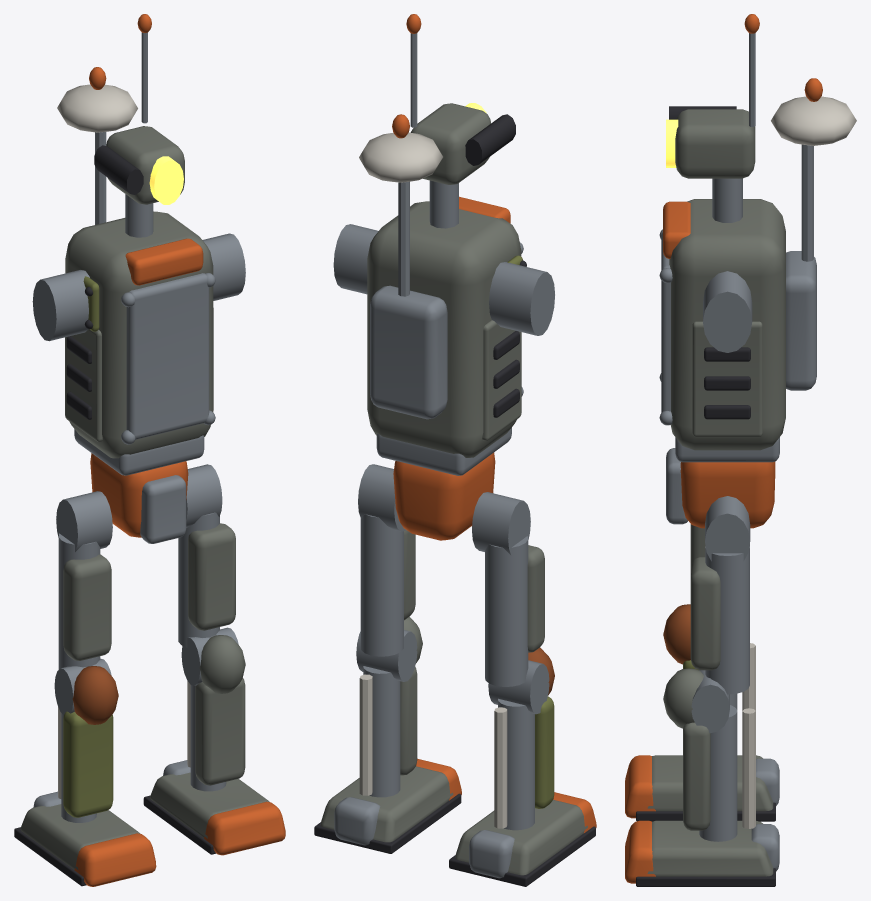
File: ch_strider.glb
3 renders of one model, left to right at view 1: azimuth 30°, elevation 25°; view 2: azimuth 150°, elevation 25°; view 3: azimuth 270°, elevation 25°, orthographic. The views are drawn at different scales.
Visible parts, largest first — view 1: ch_strider, limb_leg_l, limb_leg_r; view 2: ch_strider, limb_leg_l, limb_leg_r; view 3: ch_strider, limb_leg_r, limb_leg_l.
Boxes of the visible parts, x1,y1,x2,y2 form: ch_strider: (32, 14, 245, 543); limb_leg_l: (14, 491, 156, 886); limb_leg_r: (143, 464, 285, 855); ch_strider: (333, 14, 554, 540); limb_leg_l: (449, 492, 596, 886); limb_leg_r: (314, 464, 461, 853); ch_strider: (659, 14, 856, 528); limb_leg_r: (625, 496, 779, 886); limb_leg_l: (625, 524, 779, 821).
Bounding box in the file's own units: 0.2699 × 1.01 × 0.2564.
